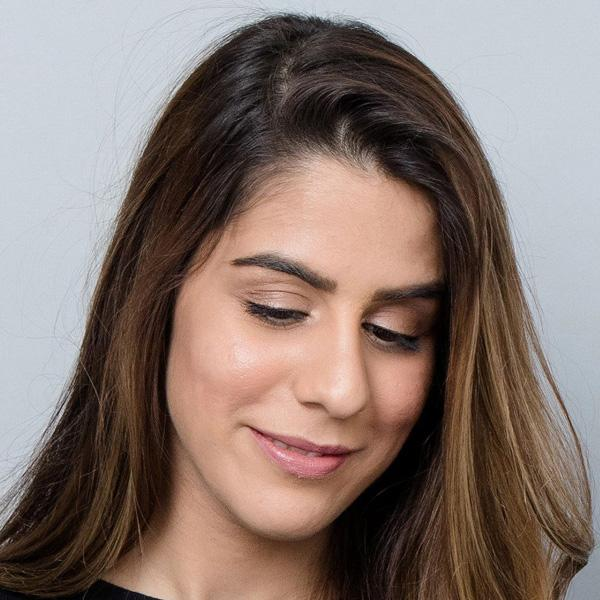Eyes: (235, 276, 316, 334), (352, 297, 433, 355)
